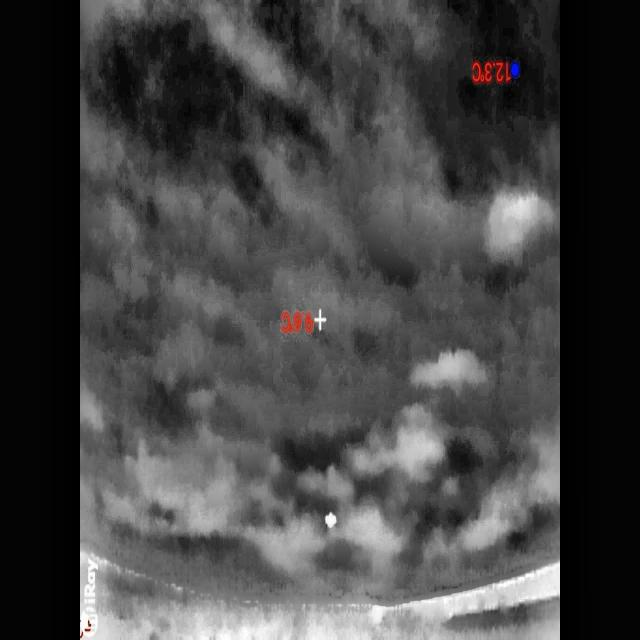drone: (324, 510, 336, 529)
